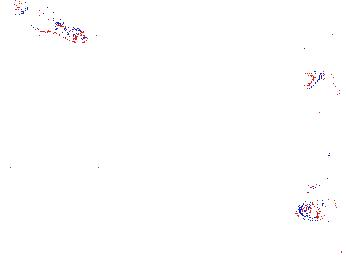X-ray fish: (123, 115, 171, 145)
glassfish: (283, 170, 346, 205)
redtail glassfish: (32, 12, 88, 47), (302, 61, 346, 95)
